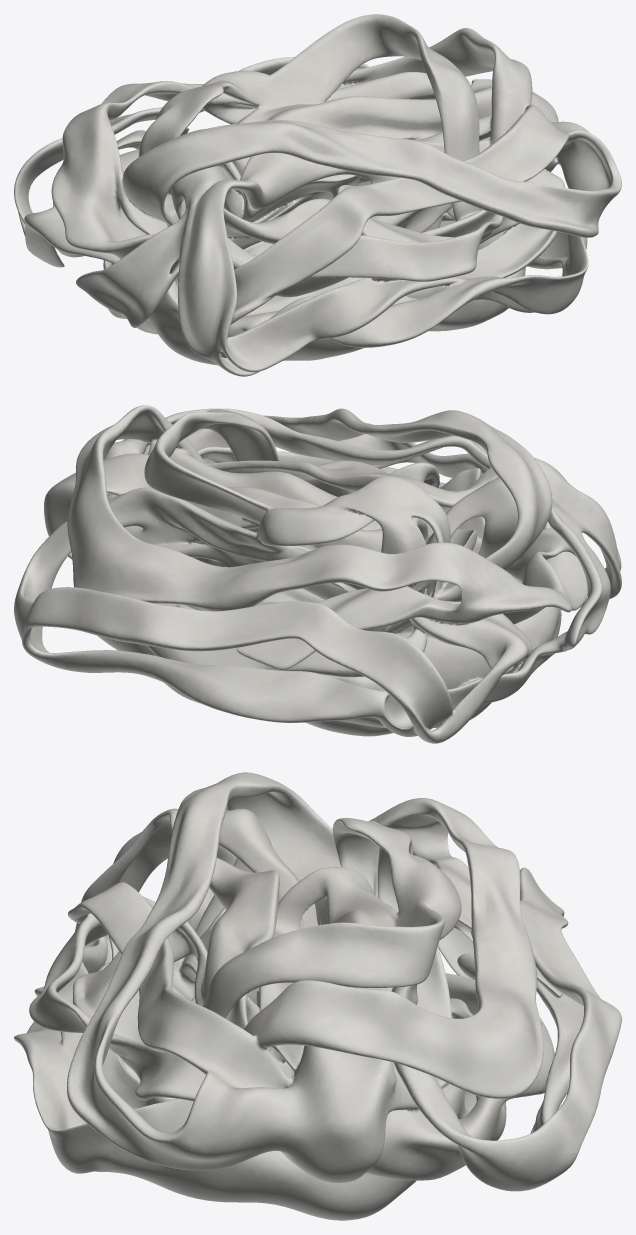
Rendered from glass_noodle.fbx.
The picture shows the model from 3 angles, top to bottom: view 1: azimuth 30°, elevation 25°; view 2: azimuth 150°, elevation 25°; view 3: azimuth 270°, elevation 25°; orthographic projection. The views are drawn at different scales.
Visible parts, largest first — view 1: Mesh_0; view 2: Mesh_0; view 3: Mesh_0.
Boxes of the visible parts, bbox=[...] form: Mesh_0: bbox=[14, 14, 621, 376]; Mesh_0: bbox=[14, 405, 621, 743]; Mesh_0: bbox=[14, 772, 621, 1220].
Size of the model in its own units: 190 by 91.09 by 171.
Materials: 1 (1 with a texture image).
